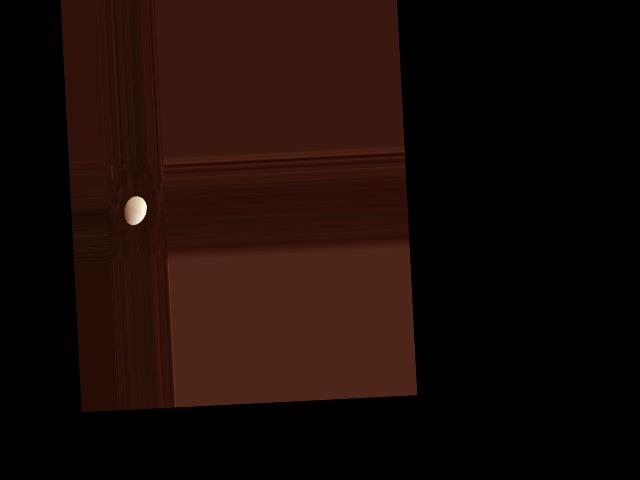egg: (123, 196, 147, 226)
